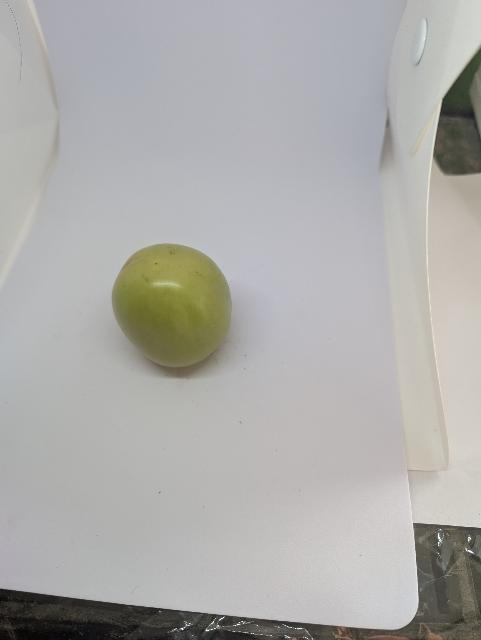green: (100, 212, 241, 373)
